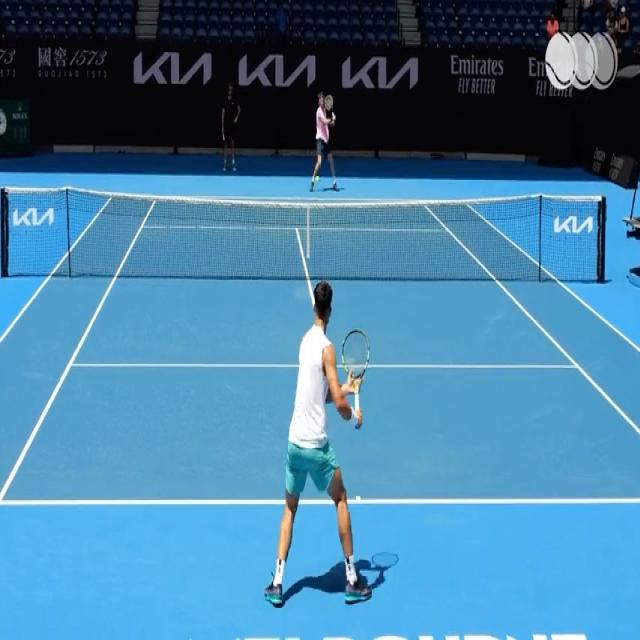forehand-ready: (271, 275, 373, 603)
